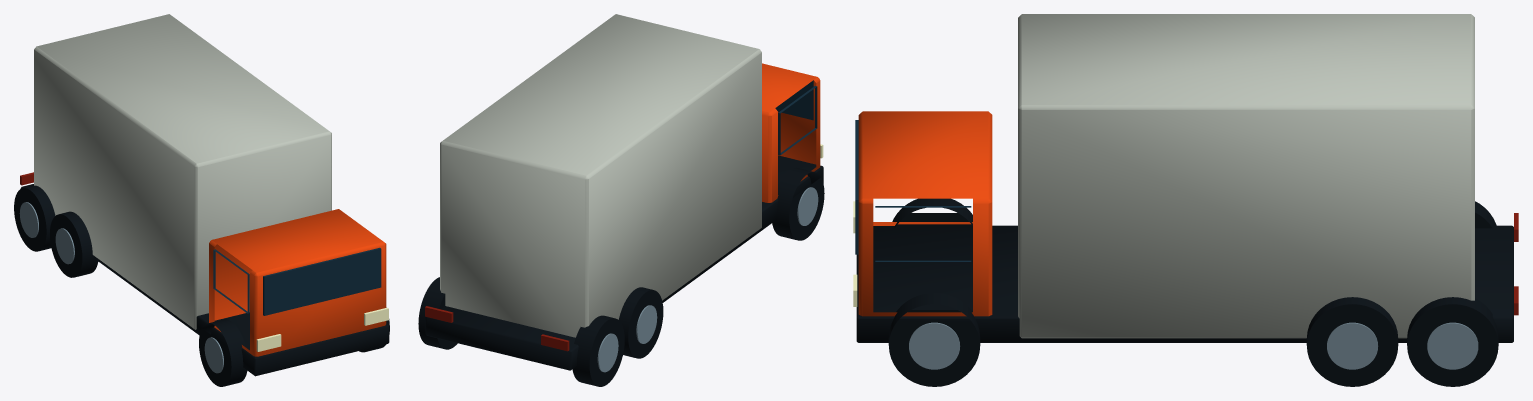
Rendered from truck-body.glb.
3 renders of one model, left to right at view 1: azimuth 30°, elevation 25°; view 2: azimuth 150°, elevation 25°; view 3: azimuth 270°, elevation 25°, orthographic. The views are drawn at different scales.
Bounding box in the file's own units: 2.34 × 2.71 × 5.97.
Materials: 1 (1 with a texture image).
